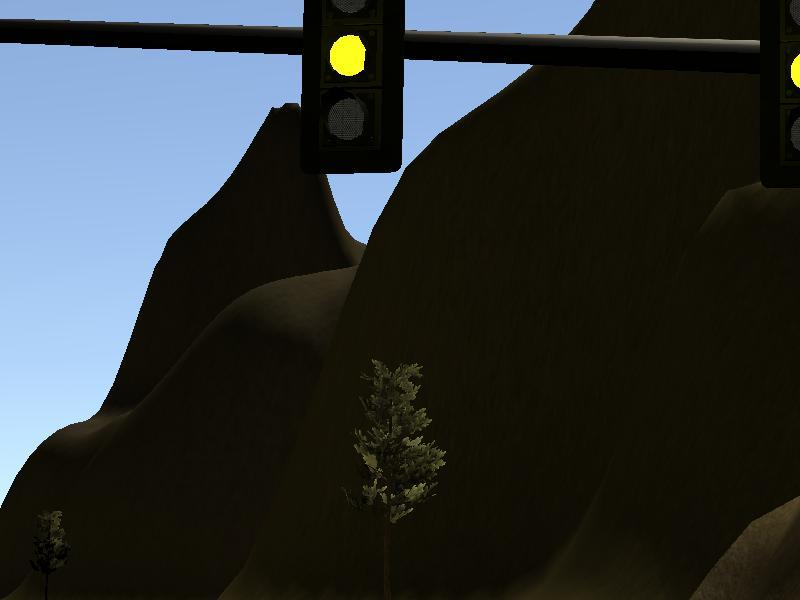Yellow: (298, 1, 407, 171), (763, 1, 800, 171)
